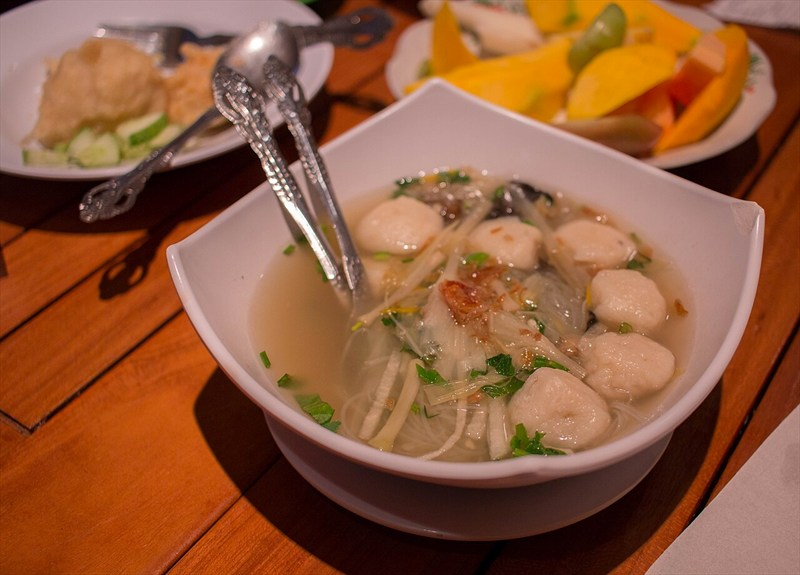Bakso: (122, 28, 733, 485)
